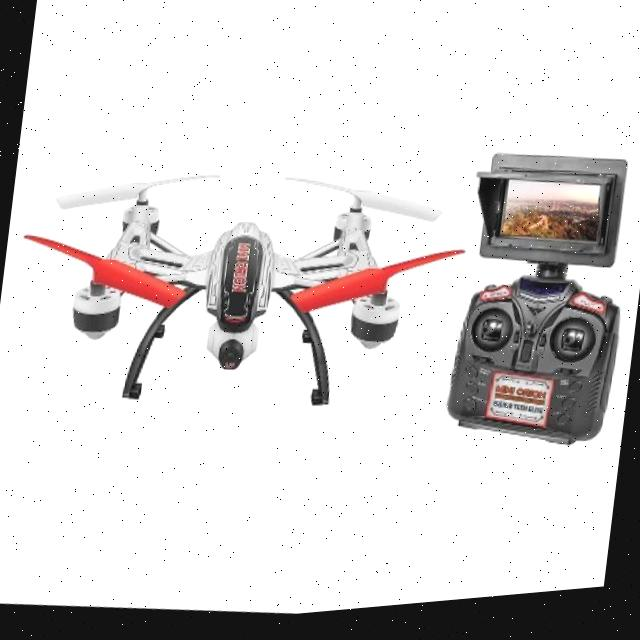drone: (19, 125, 477, 473)
